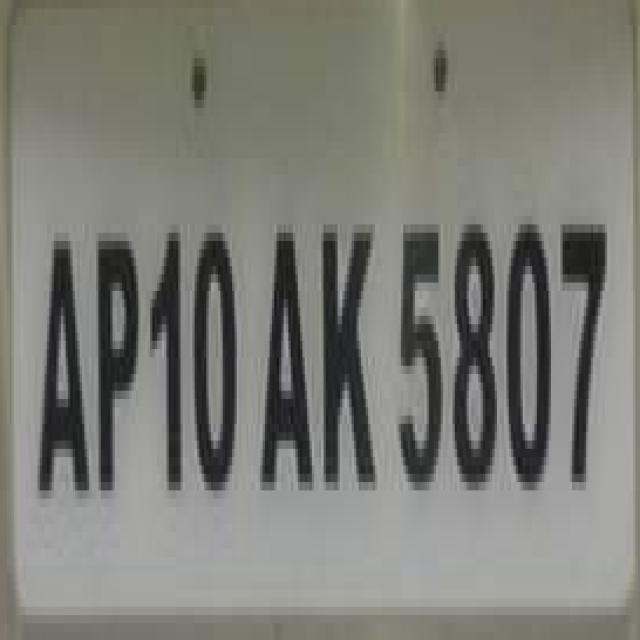license_plate: (0, 8, 614, 590)
